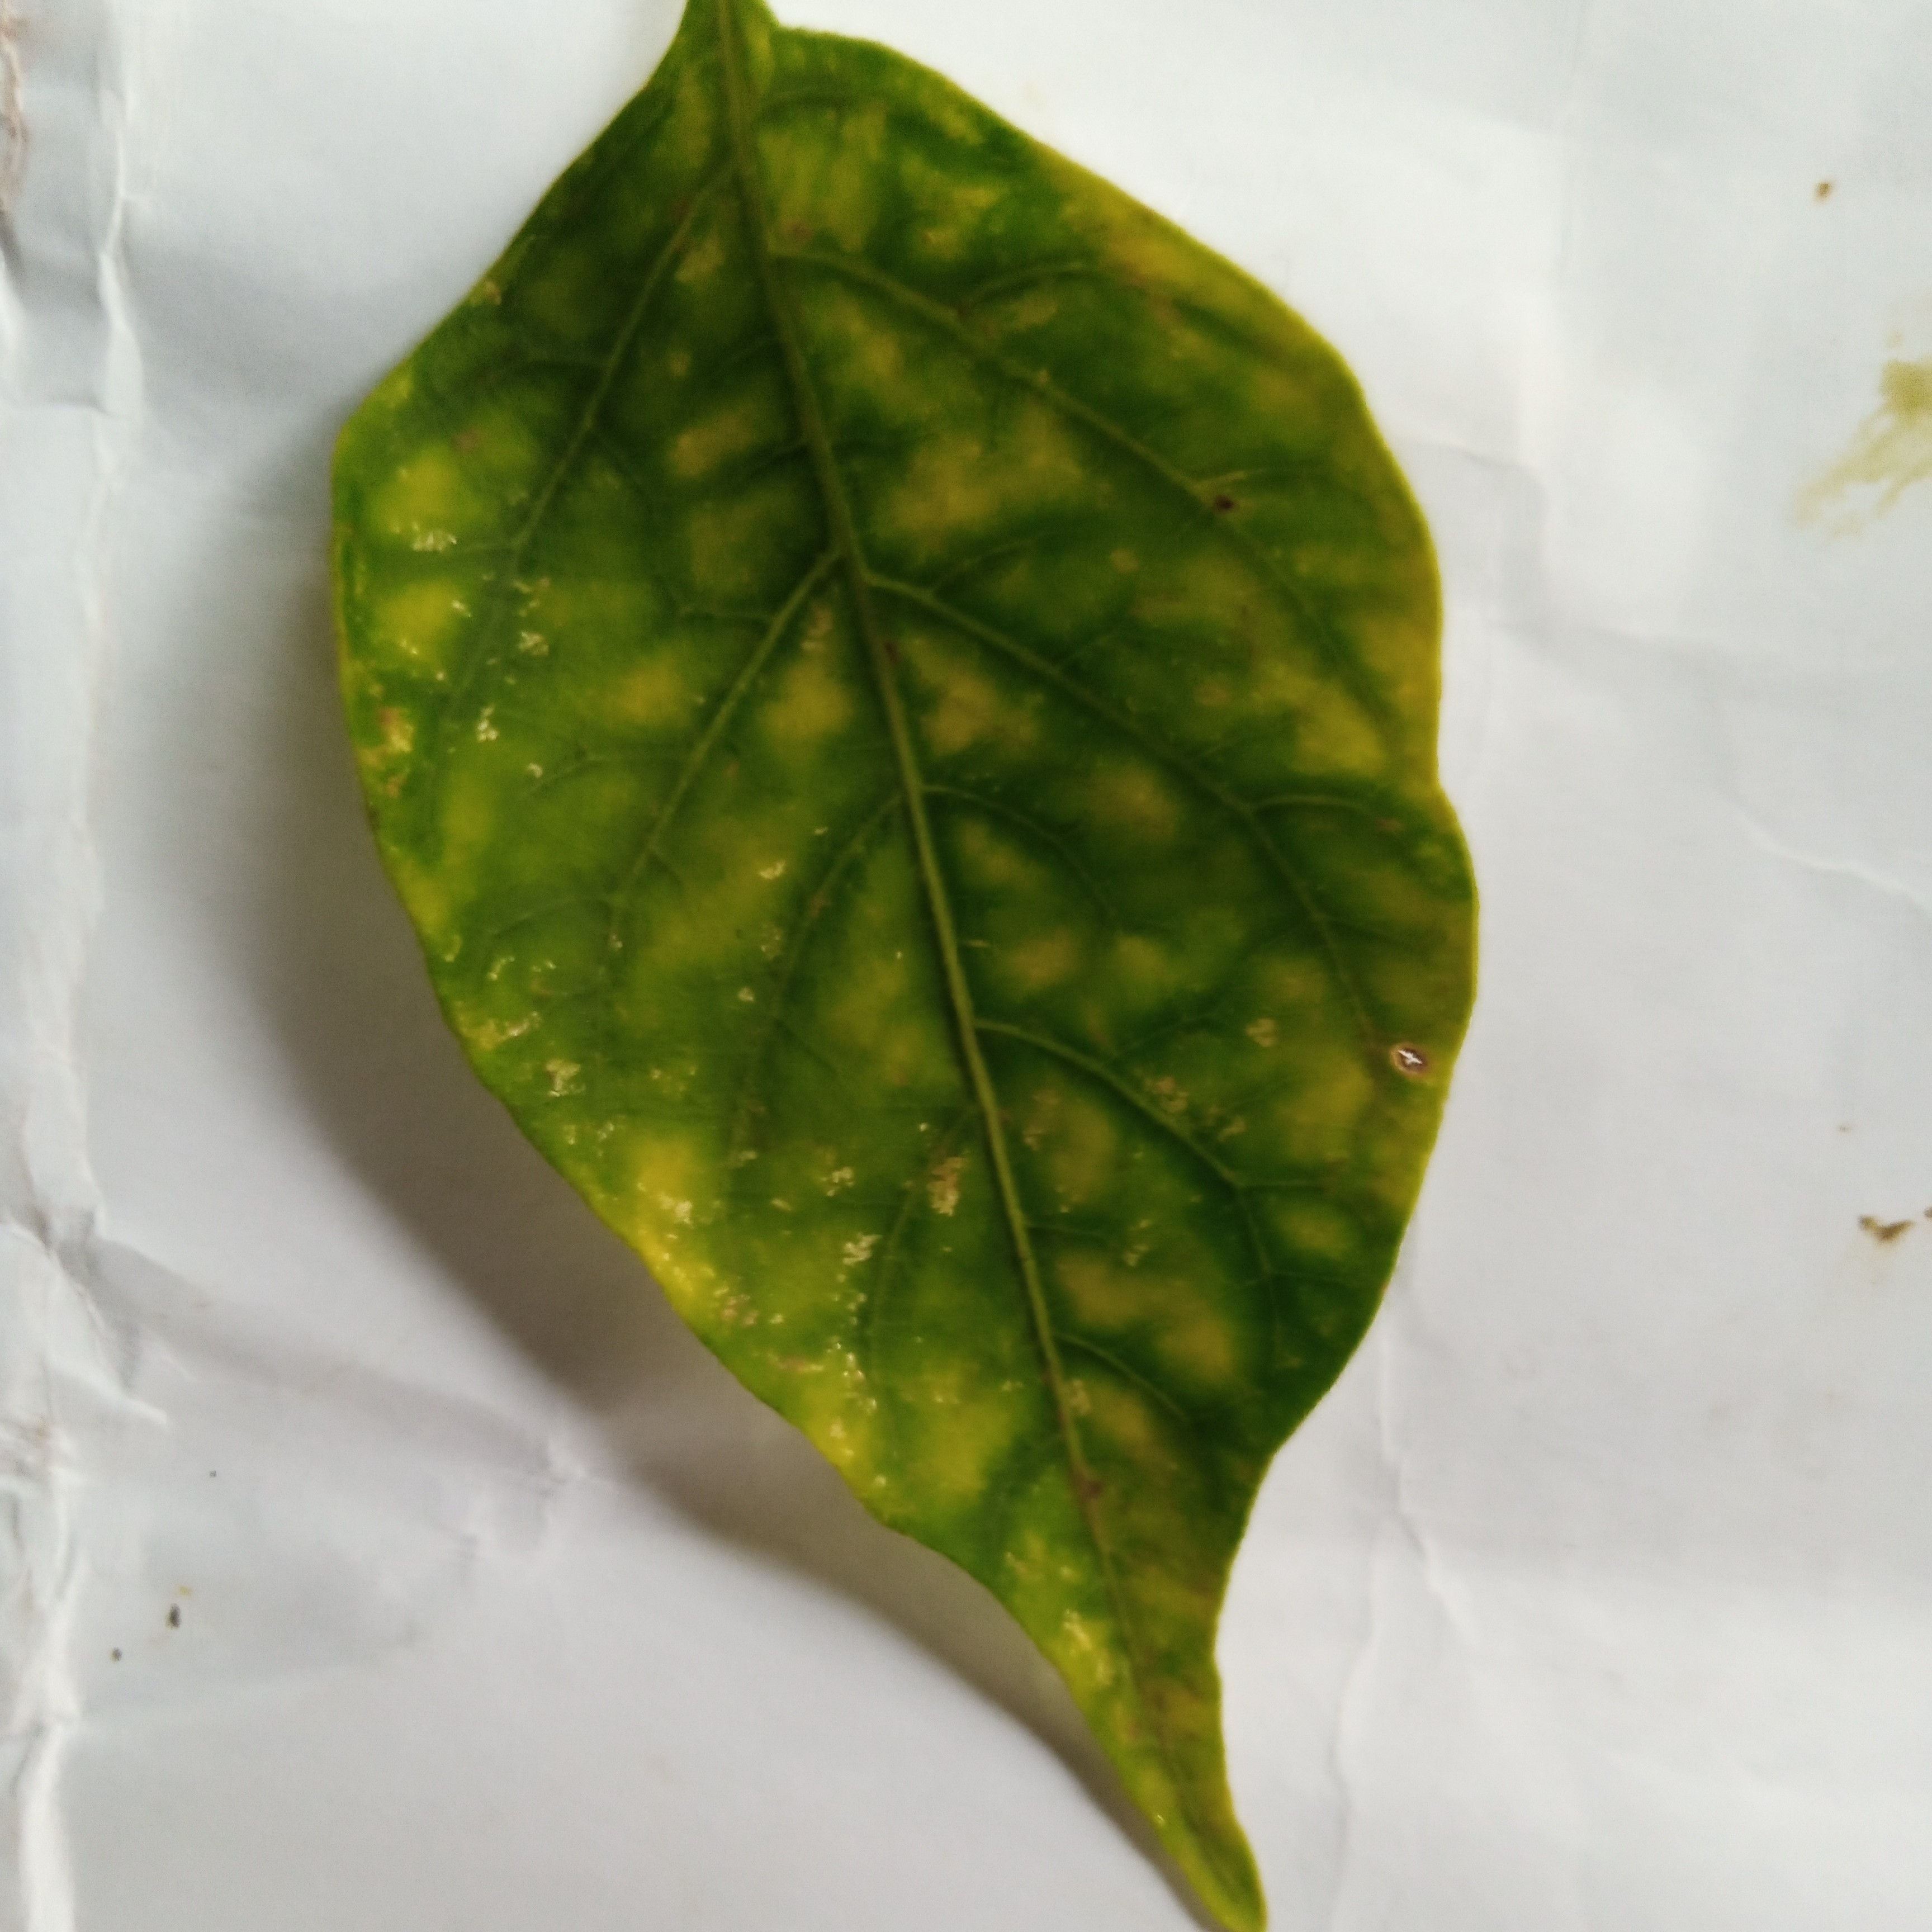Leaf: (219, 16, 1566, 1932)
